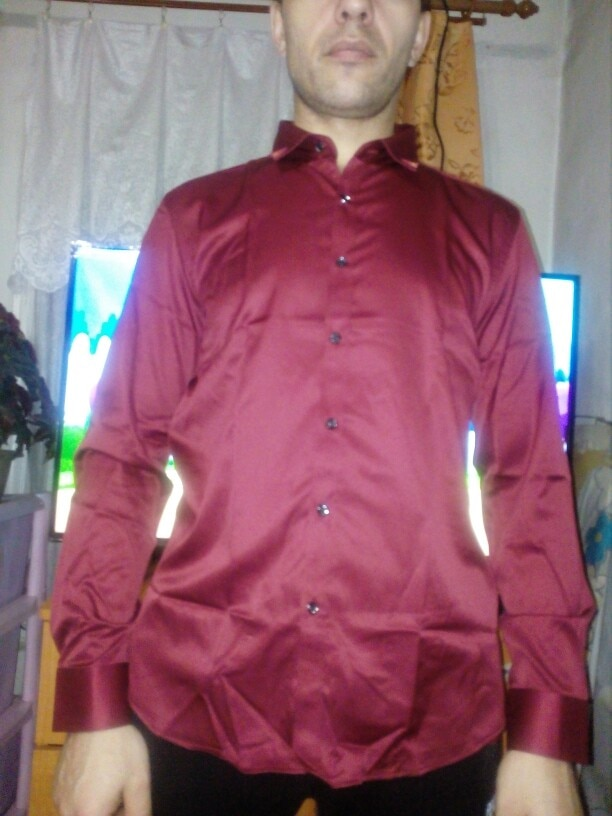shirts: (53, 134, 578, 757)
